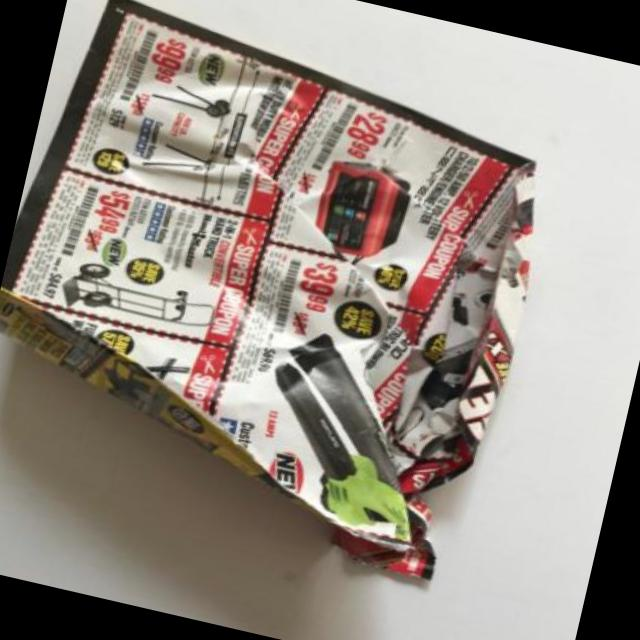cardboard paper: (0, 0, 534, 576)
